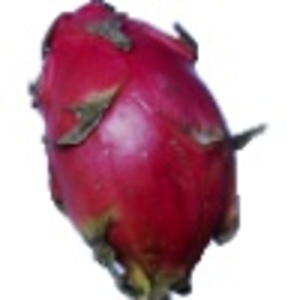pitaia: (28, 1, 268, 300)
